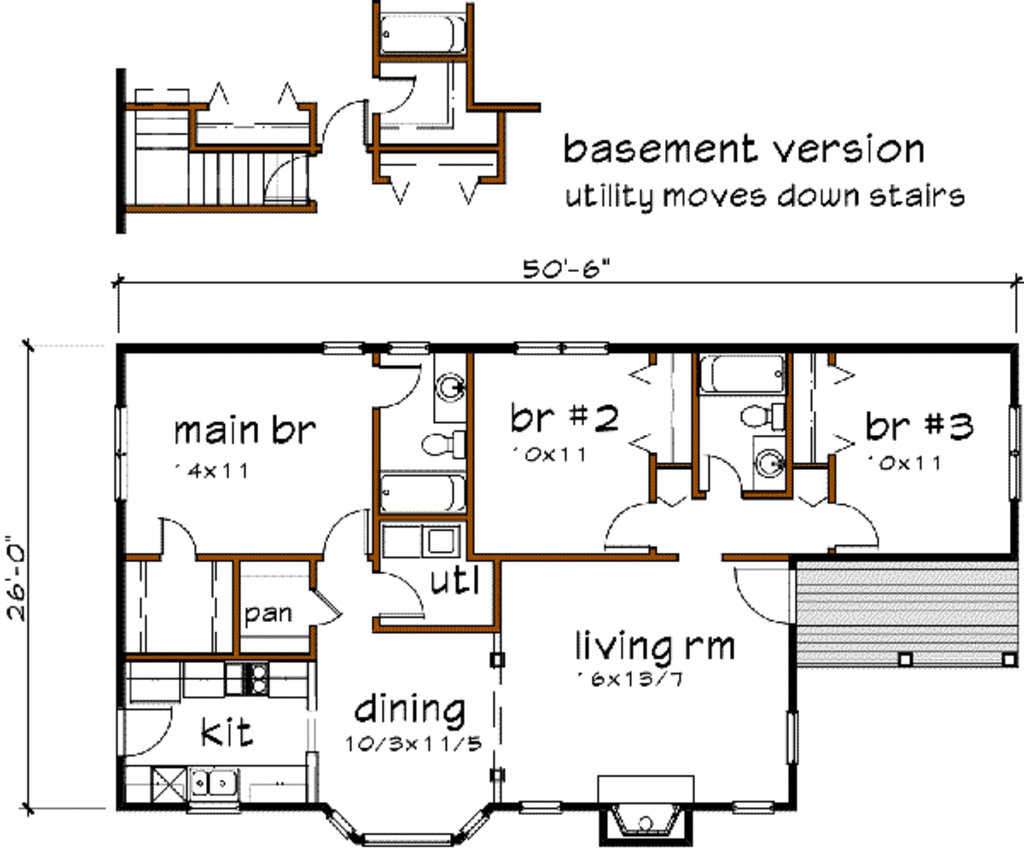door: (723, 557, 806, 634), (596, 491, 658, 558), (826, 500, 896, 553), (313, 502, 372, 564), (153, 512, 215, 569), (372, 566, 435, 618), (368, 360, 429, 409), (364, 65, 420, 118), (257, 153, 315, 199), (119, 709, 172, 757), (703, 447, 748, 499), (316, 104, 368, 144), (309, 586, 350, 636)
large_sink: (739, 396, 801, 444), (415, 419, 474, 464)
small_sink: (427, 345, 468, 421), (754, 439, 784, 491)
stairs: (119, 75, 316, 205)
tub: (697, 344, 796, 401), (377, 2, 475, 58), (375, 470, 475, 519)
twin_sink: (176, 764, 248, 809)
window: (315, 801, 497, 849), (511, 338, 609, 365), (1005, 396, 1024, 506), (109, 404, 129, 499), (316, 339, 367, 362)
